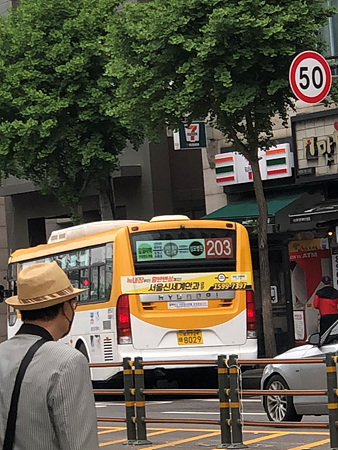bnum: (204, 238, 232, 256)
